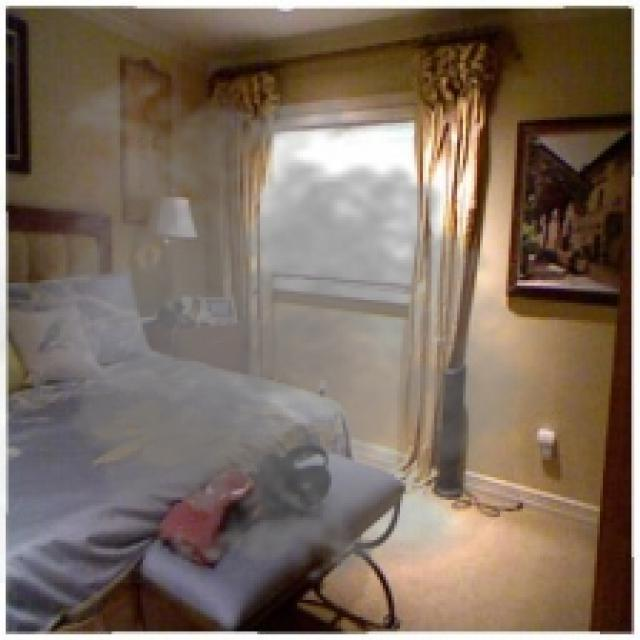Smoke: (0, 62, 569, 594)
